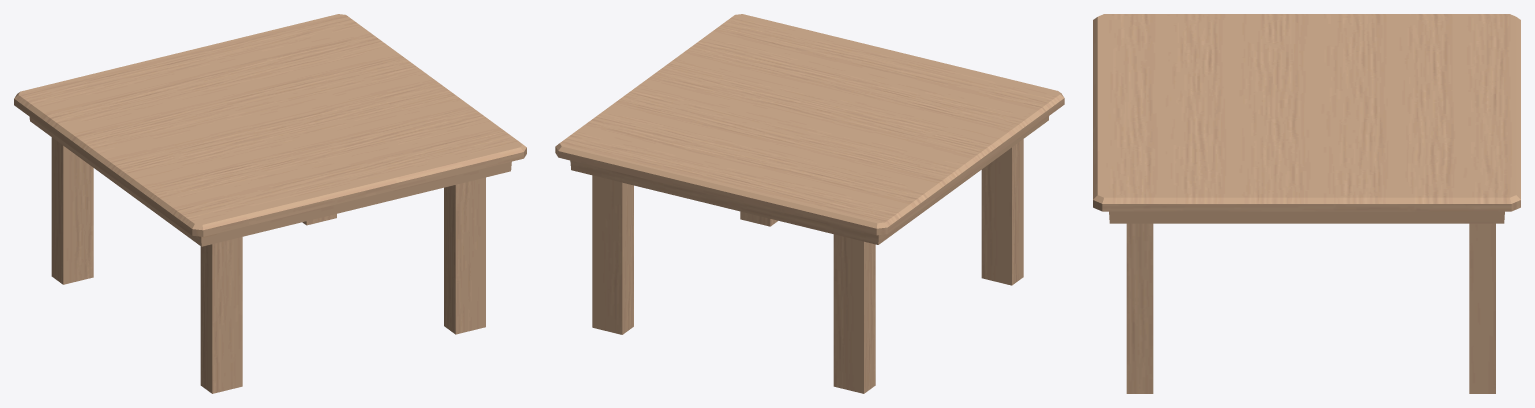
The model's file is Square Table_D.FBX.
The picture shows the model from 3 angles, left to right: view 1: azimuth 30°, elevation 25°; view 2: azimuth 150°, elevation 25°; view 3: azimuth 270°, elevation 25°; orthographic projection. The views are drawn at different scales.
Visible parts, largest first — view 1: Square Table; view 2: Square Table; view 3: Square Table.
Boxes of the visible parts, x1=… form: Square Table: x1=14, y1=14, x2=526, y2=393; Square Table: x1=555, y1=14, x2=1064, y2=393; Square Table: x1=1093, y1=14, x2=1520, y2=393.
Bounding box in the file's own units: 264 × 138 × 254.
